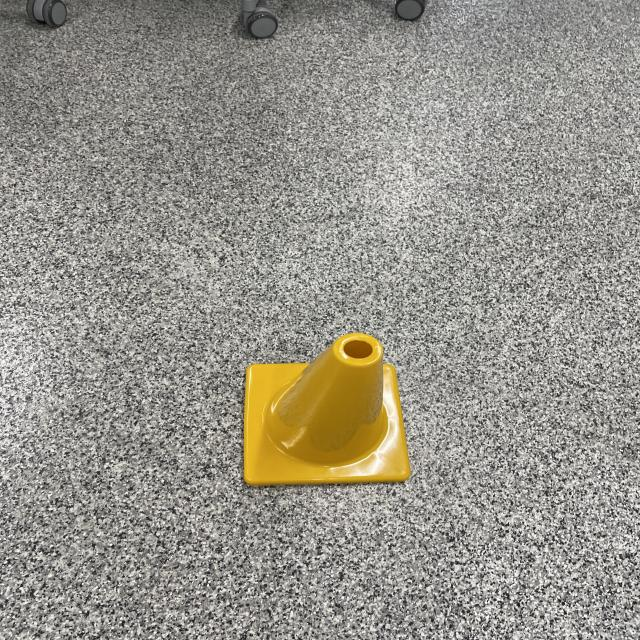frc_cone: (229, 324, 417, 486)
